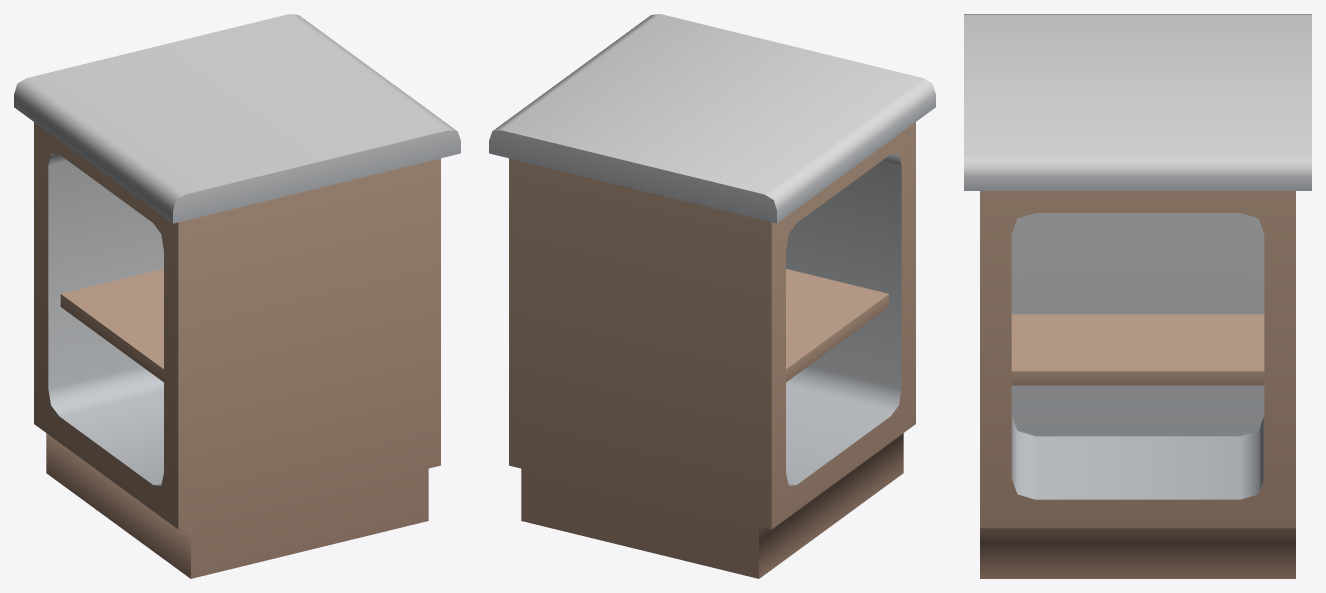
The model's file is cabinet-basic-island.glb.
3 renders of one model, left to right at view 1: azimuth 30°, elevation 25°; view 2: azimuth 150°, elevation 25°; view 3: azimuth 270°, elevation 25°, orthographic. The views are drawn at different scales.
Visible parts, largest first — view 1: cabinet-basic-island; view 2: cabinet-basic-island; view 3: cabinet-basic-island.
Part boxes in pixels (bbox=[...]): cabinet-basic-island: bbox=[14, 14, 460, 578]; cabinet-basic-island: bbox=[489, 14, 935, 578]; cabinet-basic-island: bbox=[964, 14, 1311, 578].
Size of the model in its own units: 0.575 by 0.75 by 0.55.
